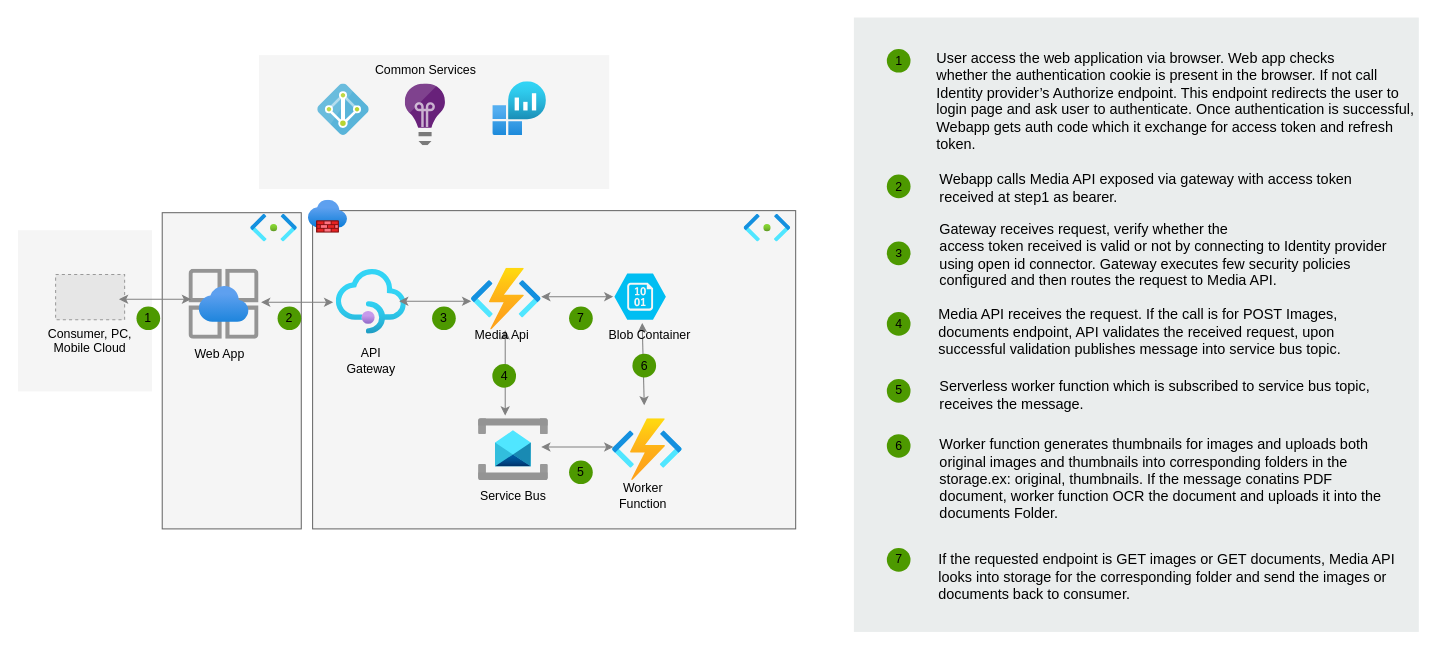
Some shapes in this 1436 by 650 pixel diagram are drawn without their labels. Grey dashed boxes stand in for pictures. The shapes that lost their labels are listed below. From the top down, each one's box as (x1, y1, x2, y2) in pixels, then its label:
(317, 83, 369, 135): Identity Provider
(405, 83, 445, 145): Azure App Insights
(492, 81, 546, 135): Log Analytics Workspace
